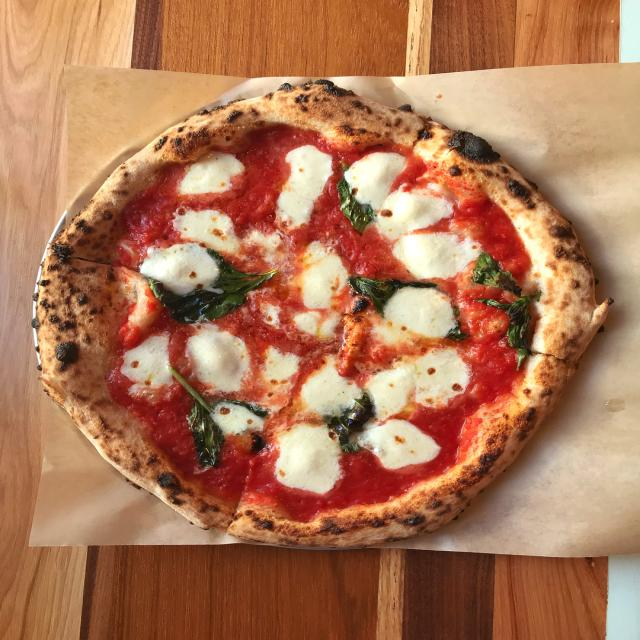basil: (469, 252, 542, 370), (164, 368, 228, 476), (144, 277, 255, 328), (343, 272, 437, 315), (204, 243, 281, 295), (323, 391, 378, 456), (331, 160, 378, 236), (217, 396, 277, 422), (443, 302, 474, 346), (243, 432, 269, 456)
pizza: (29, 75, 616, 551)
